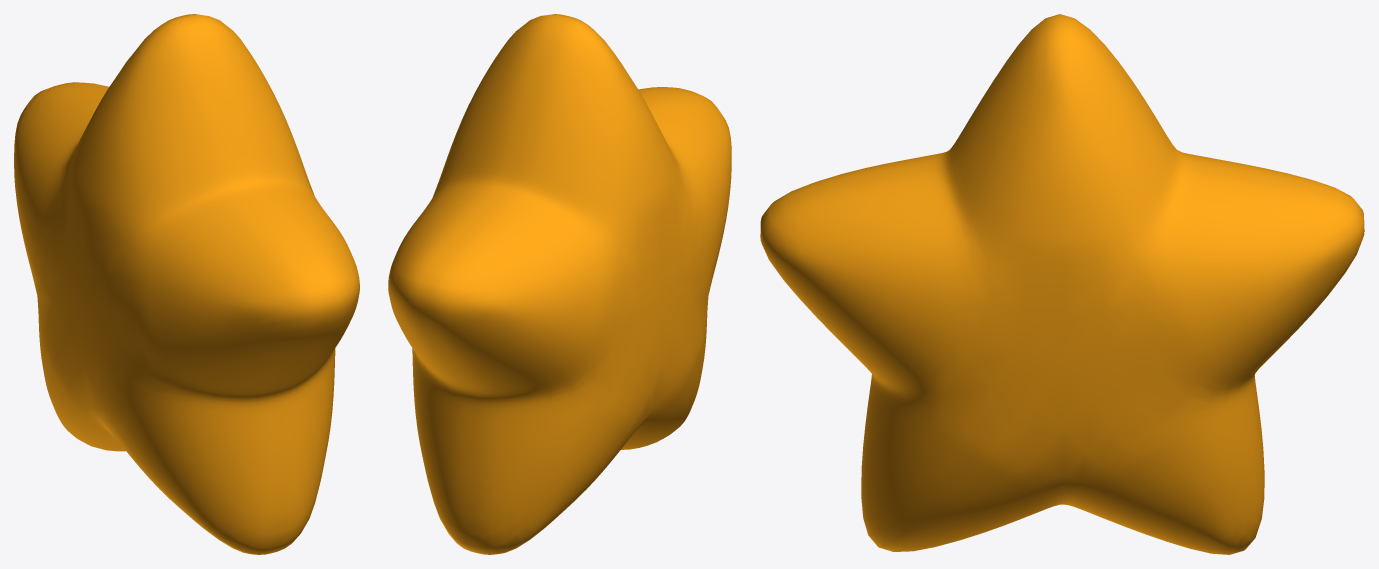
The model's file is AU_emoji_03.fbx.
The picture shows the model from 3 angles, left to right: view 1: azimuth 30°, elevation 25°; view 2: azimuth 150°, elevation 25°; view 3: azimuth 270°, elevation 25°; orthographic projection. The views are drawn at different scales.
Visible parts, largest first — view 1: emoji_03; view 2: emoji_03; view 3: emoji_03.
Boxes of the visible parts, left/top/right/bottom form: emoji_03: left=14, top=14, right=359, bottom=554; emoji_03: left=388, top=14, right=731, bottom=554; emoji_03: left=760, top=14, right=1364, bottom=554.
Size of the model in its own units: 6.19 by 13.75 by 14.29.
